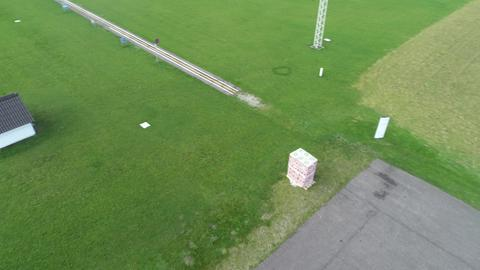RockwoolPallet: (286, 147, 319, 189)
